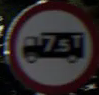Heavy Vehicles: (11, 4, 91, 82)
